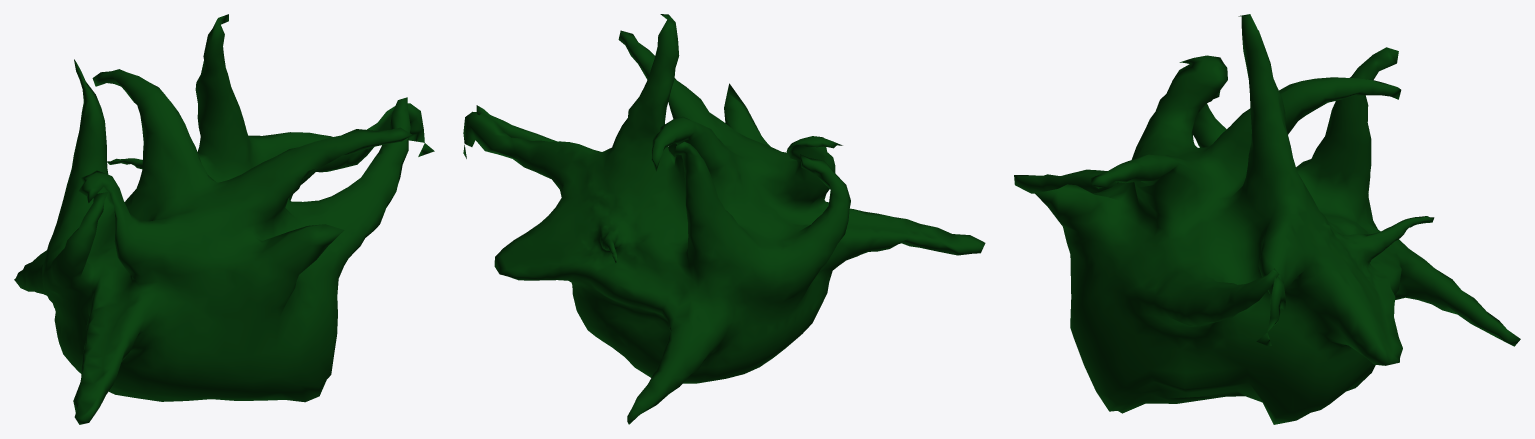
The model's file is jump_cthulhu_009.obj.
The picture shows the model from 3 angles, left to right: view 1: azimuth 30°, elevation 25°; view 2: azimuth 150°, elevation 25°; view 3: azimuth 270°, elevation 25°; orthographic projection. The views are drawn at different scales.
Parts seen in each view (by area): view 1: Cube; view 2: Cube; view 3: Cube.
Part boxes in pixels (bbox=[...]): Cube: bbox=[14, 14, 434, 424]; Cube: bbox=[463, 14, 985, 424]; Cube: bbox=[1014, 14, 1520, 424].
Size of the model in its own units: 1.26 by 0.9266 by 1.07.
